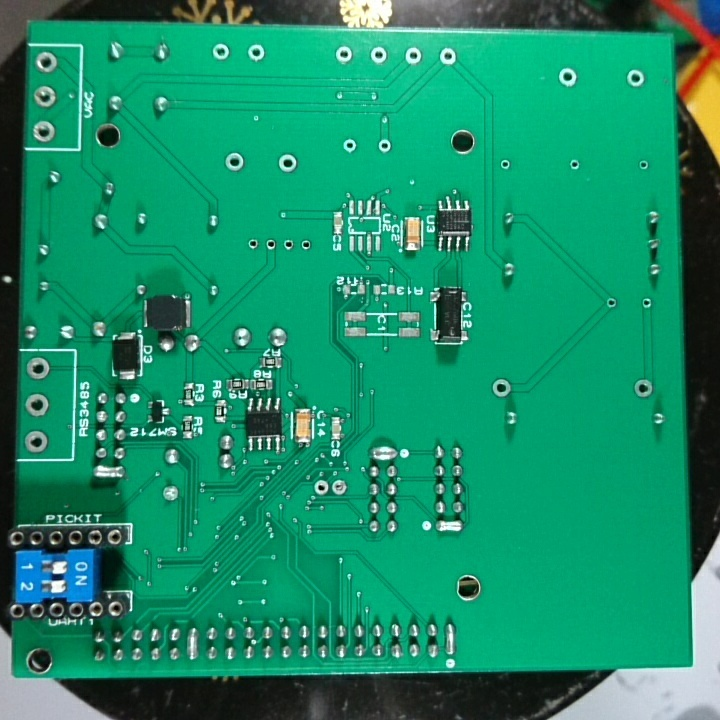F: (23, 352, 56, 385), (19, 426, 53, 456), (30, 81, 60, 112), (273, 149, 301, 180), (22, 391, 52, 419), (33, 48, 63, 76), (30, 118, 59, 144), (436, 42, 461, 69), (221, 150, 247, 175), (245, 39, 270, 65), (332, 42, 356, 69), (624, 64, 648, 90), (555, 63, 579, 89), (490, 375, 514, 400), (632, 375, 656, 400), (401, 43, 427, 66), (367, 43, 390, 66), (339, 133, 360, 158), (210, 40, 232, 63), (159, 482, 182, 504), (330, 475, 349, 501), (311, 477, 330, 502), (375, 135, 394, 158), (279, 232, 296, 257), (297, 232, 313, 256), (634, 156, 652, 175), (497, 155, 515, 173), (604, 294, 621, 311), (264, 235, 278, 255), (244, 236, 260, 253), (567, 156, 583, 172), (639, 294, 654, 311)
P: (89, 460, 126, 482), (368, 443, 399, 463), (443, 620, 459, 656), (186, 624, 200, 662), (435, 518, 464, 536)
